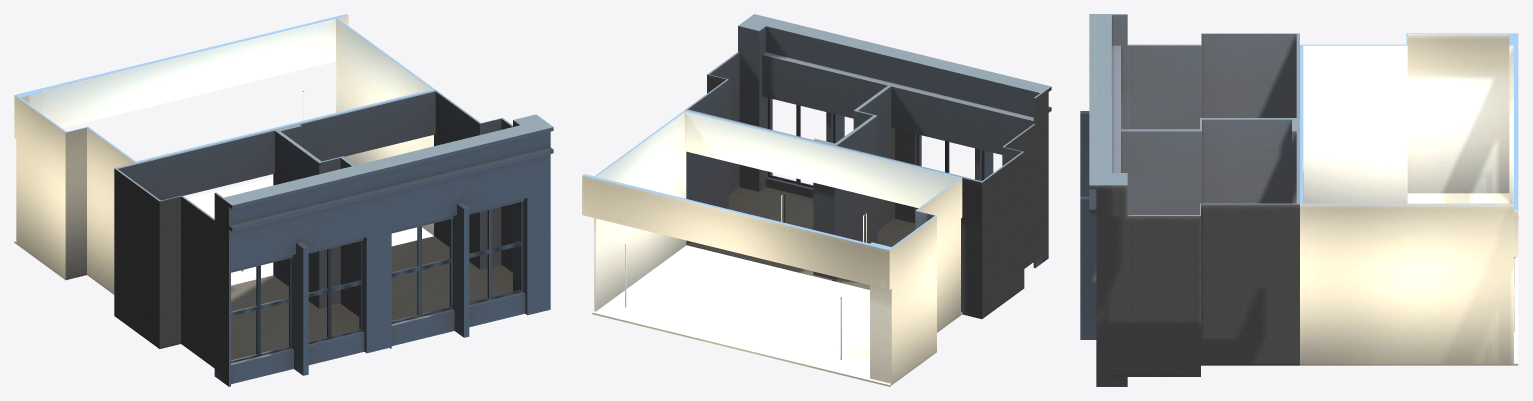
3 views of the same model, side by side, from view 1: azimuth 30°, elevation 25°; view 2: azimuth 150°, elevation 25°; view 3: azimuth 270°, elevation 25° (orthographic). The views are drawn at different scales.
Visible parts, largest first — view 1: hc_2floor_room024_3, hc_2floor_room001_1, hc_2floor_room023_2; view 2: hc_2floor_room023_2, hc_2floor_room024_3, hc_2floor_room001_1; view 3: hc_2floor_room023_2, hc_2floor_room001_1, hc_2floor_room024_3.
Boxes of the visible parts, x1,y1,x2,y2 form: hc_2floor_room024_3: (114, 129, 392, 386); hc_2floor_room001_1: (275, 90, 553, 348); hc_2floor_room023_2: (14, 14, 435, 294); hc_2floor_room023_2: (582, 110, 962, 386); hc_2floor_room024_3: (833, 50, 1051, 318); hc_2floor_room001_1: (685, 14, 902, 280); hc_2floor_room023_2: (1299, 33, 1518, 365); hc_2floor_room001_1: (1080, 99, 1299, 386); hc_2floor_room024_3: (1080, 14, 1299, 196).
Size of the model in its own units: 0.96 by 0.4943 by 0.9728.
3 materials, 3 textured.
